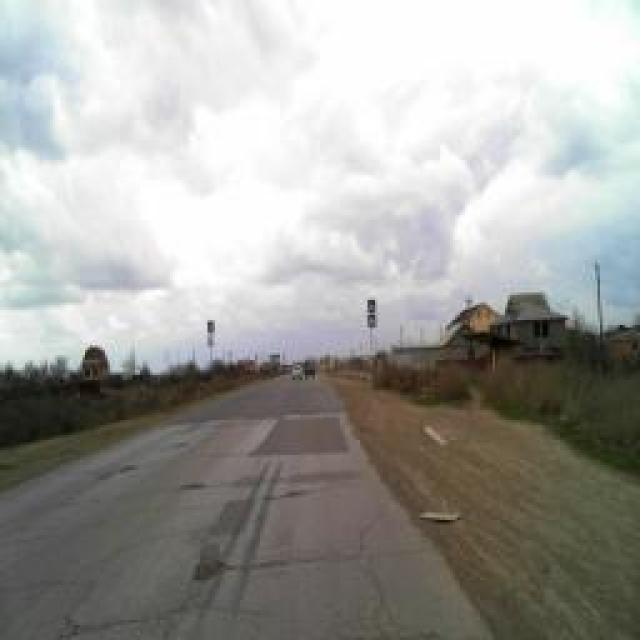sign: (368, 296, 378, 314), (368, 312, 378, 328), (207, 318, 215, 332)
